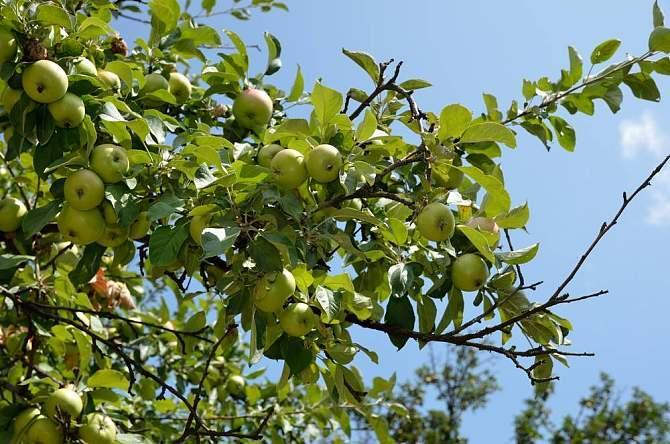apple: (23, 60, 70, 104), (230, 87, 272, 131), (254, 268, 295, 313), (57, 206, 104, 243), (87, 142, 128, 184), (268, 148, 306, 191), (414, 202, 454, 242), (63, 171, 103, 210), (45, 91, 85, 128), (305, 144, 342, 183), (451, 253, 488, 292), (278, 301, 316, 335)
